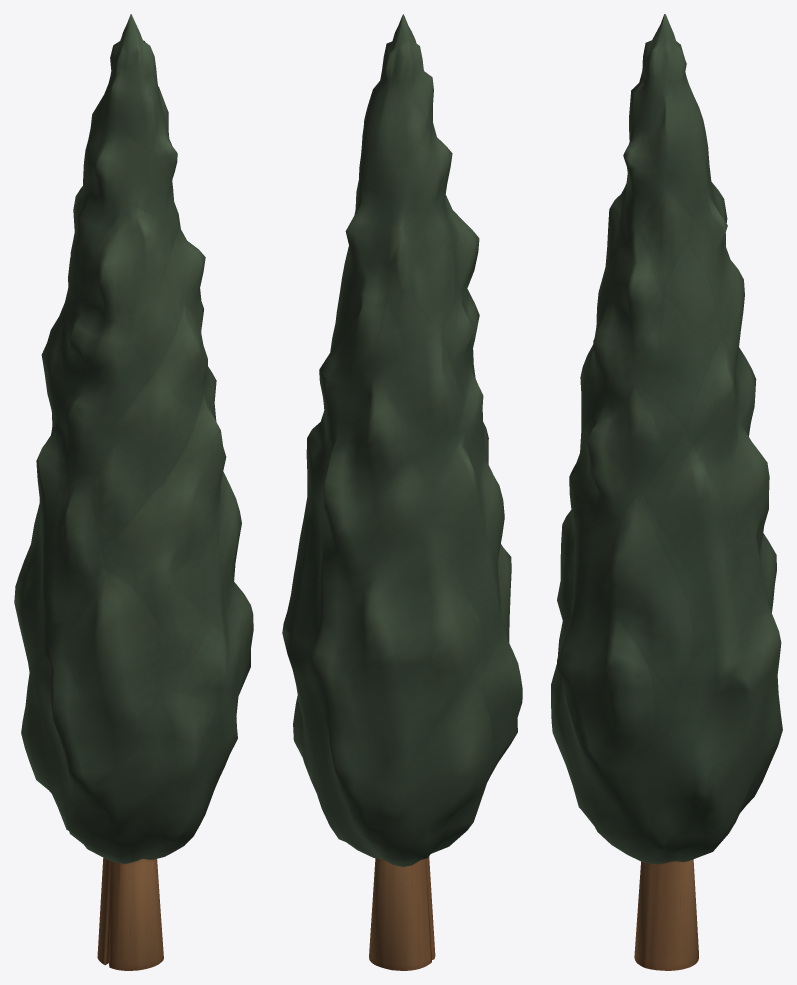
Rendered from tree-cypress.raw.glb.
3 renders of one model, left to right at view 1: azimuth 30°, elevation 25°; view 2: azimuth 150°, elevation 25°; view 3: azimuth 270°, elevation 25°, orthographic.
Size of the model in its own units: 0.2085 by 0.9507 by 0.2119.
1 material, 1 textured.
